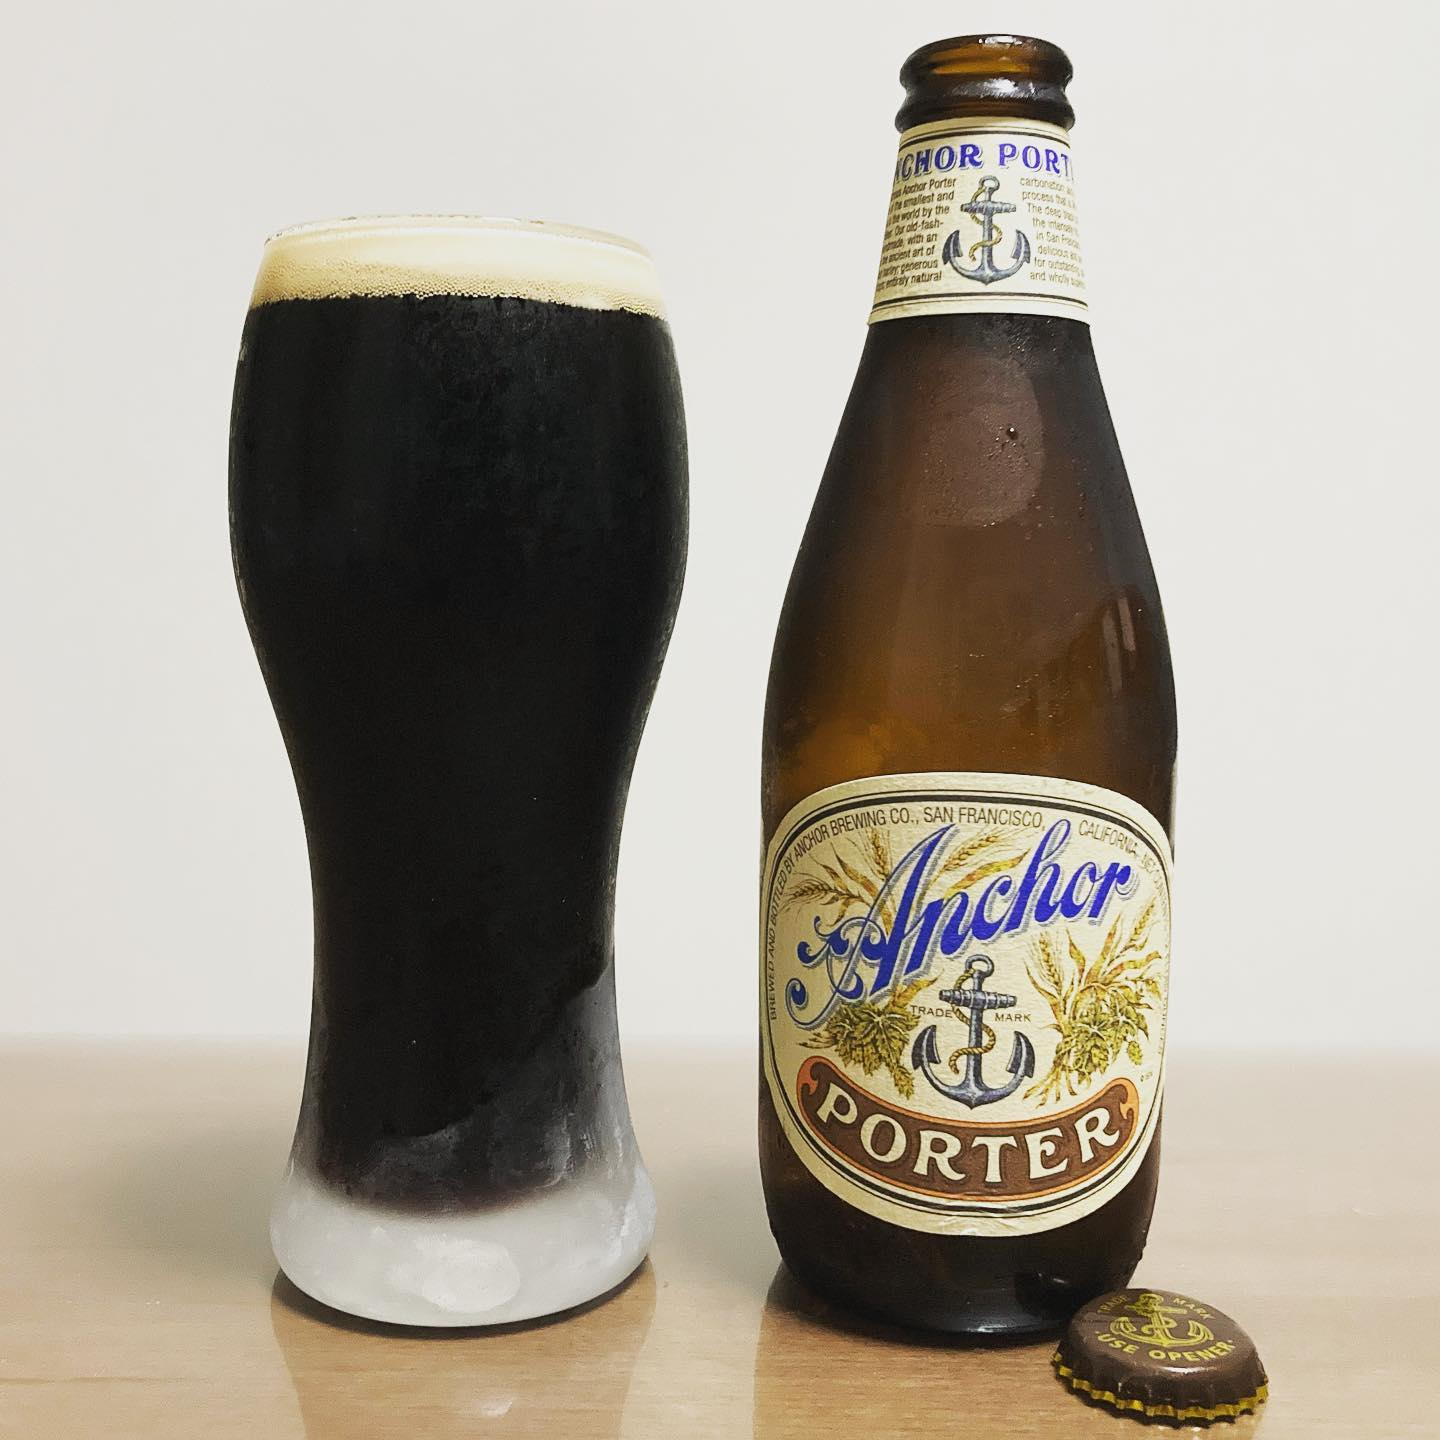alcohol: (752, 26, 1182, 1358), (218, 204, 699, 1342)
